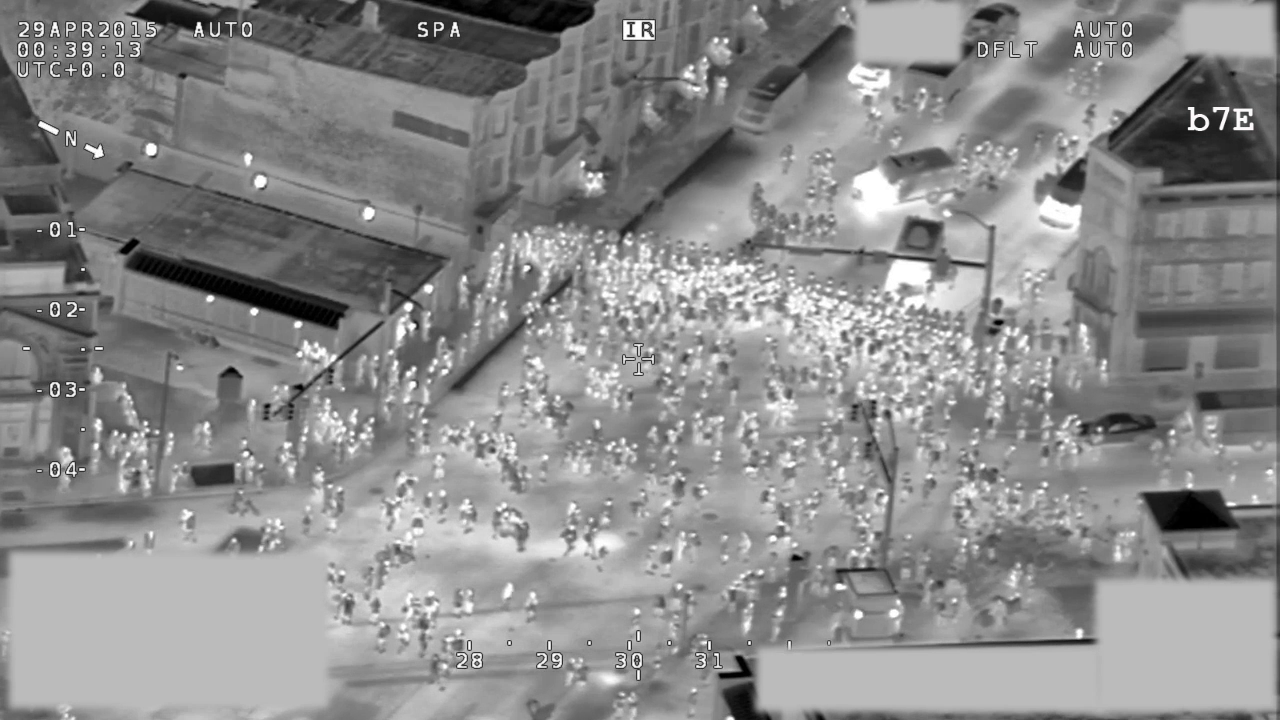vehicle: (844, 142, 975, 220), (1165, 388, 1280, 455), (882, 211, 951, 306), (730, 63, 808, 141), (949, 1, 1030, 61), (1071, 409, 1160, 447)
